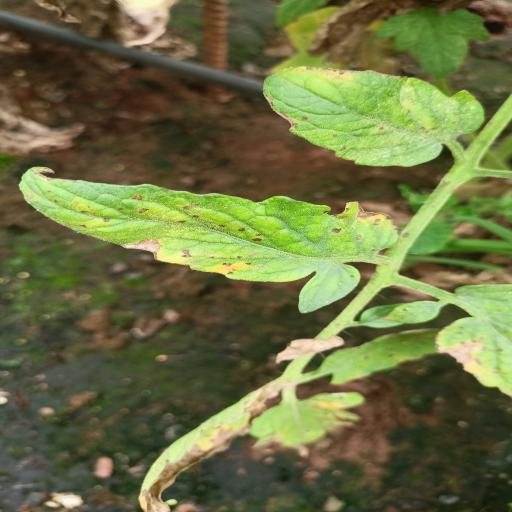Early Blight: (11, 164, 401, 286), (256, 63, 490, 168)
